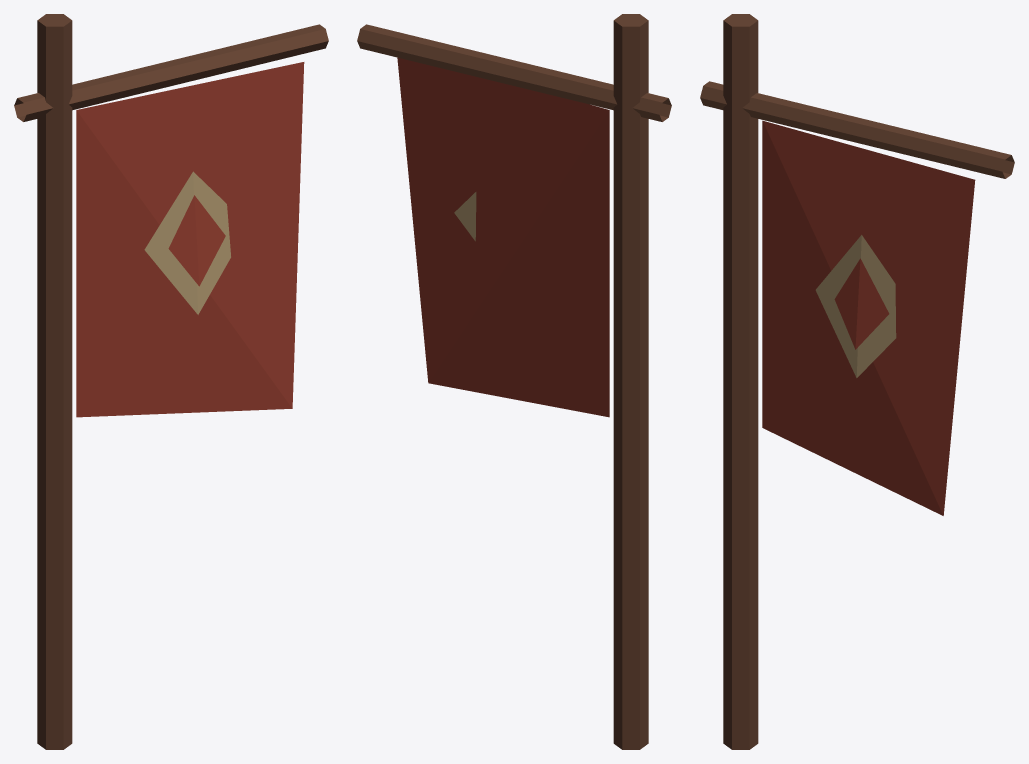
3 views of the same model, side by side, from view 1: azimuth 30°, elevation 25°; view 2: azimuth 150°, elevation 25°; view 3: azimuth 330°, elevation 25° (orthographic).
Visible parts, largest first — view 1: P02_古道红旗; view 2: P02_古道红旗; view 3: P02_古道红旗.
Part boxes in pixels (x1=…): P02_古道红旗: x1=14, y1=14, x2=328, y2=749; P02_古道红旗: x1=357, y1=14, x2=671, y2=749; P02_古道红旗: x1=700, y1=14, x2=1014, y2=749.
Bounding box in the file's own units: 0.7 × 1.6 × 0.105.
